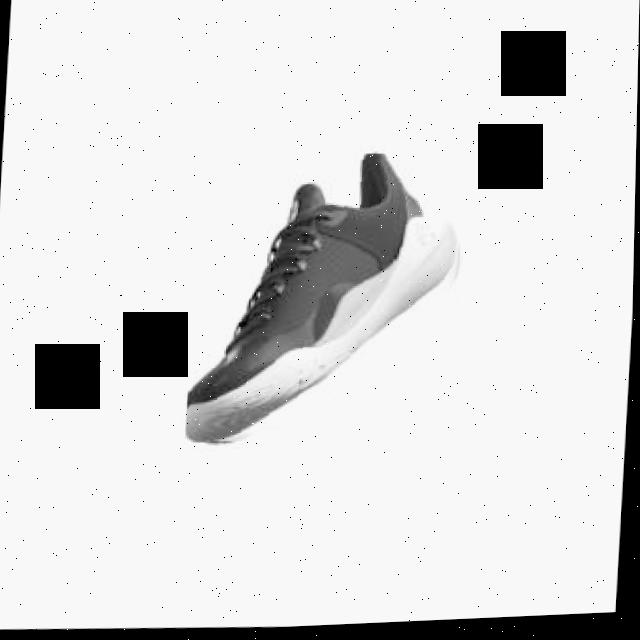shoe: (186, 147, 470, 454)
